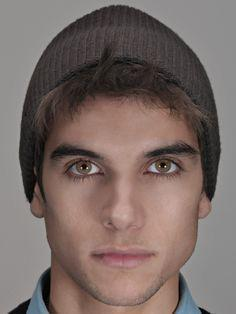Sober: (42, 108, 197, 281)
